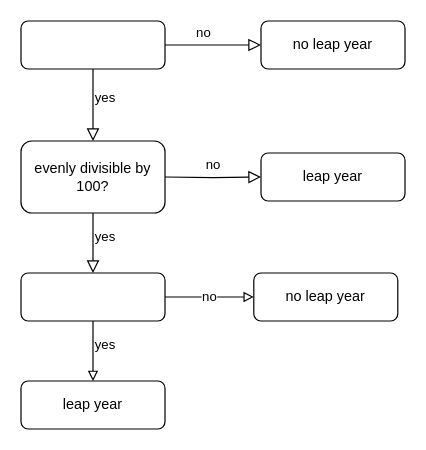
The diagram is 426 pixels wide and 450 high, and some of its shapes have lost their labels. The centre of each missing label's shape, as x and y in pixels:
evenly divisible by 400?: the point at 92,296
evenly divisible by 4?: the point at 92,44
